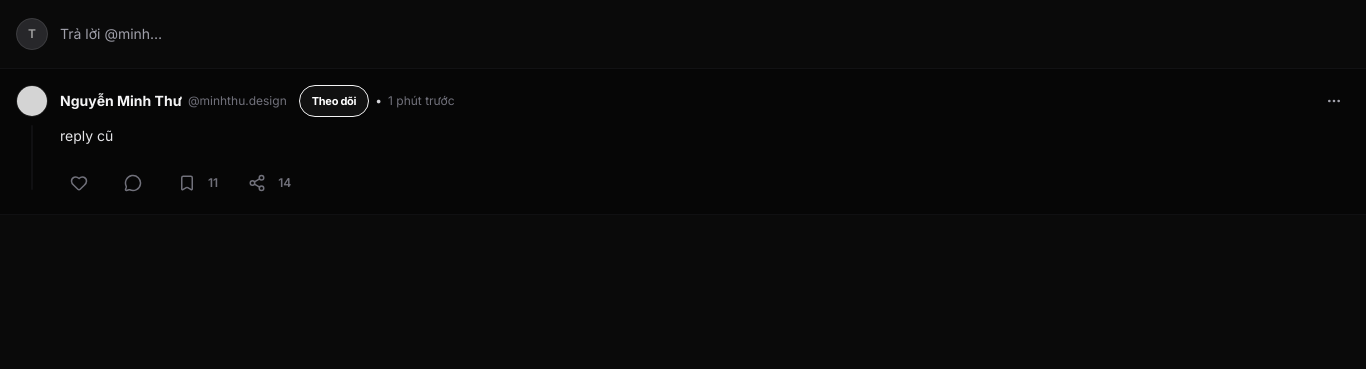
it: ReplyComposer › posts a reply to the top of the thread and collapses
Click the button "T Trả lời @minh…" at (32, 34), box [16, 12, 1350, 56]
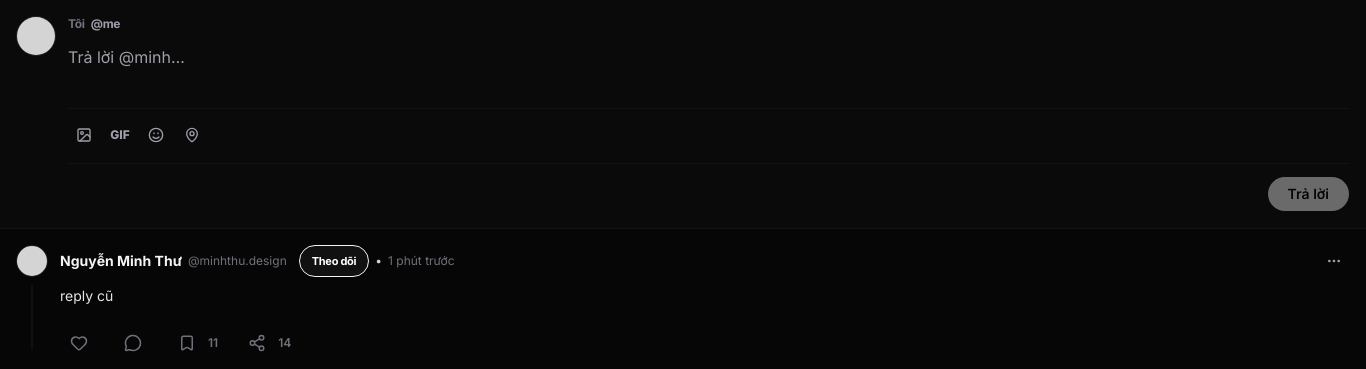
Type "xin chào" into the text box with placeholder "Trả lời @minh…" at (709, 70), box [68, 40, 1350, 100]
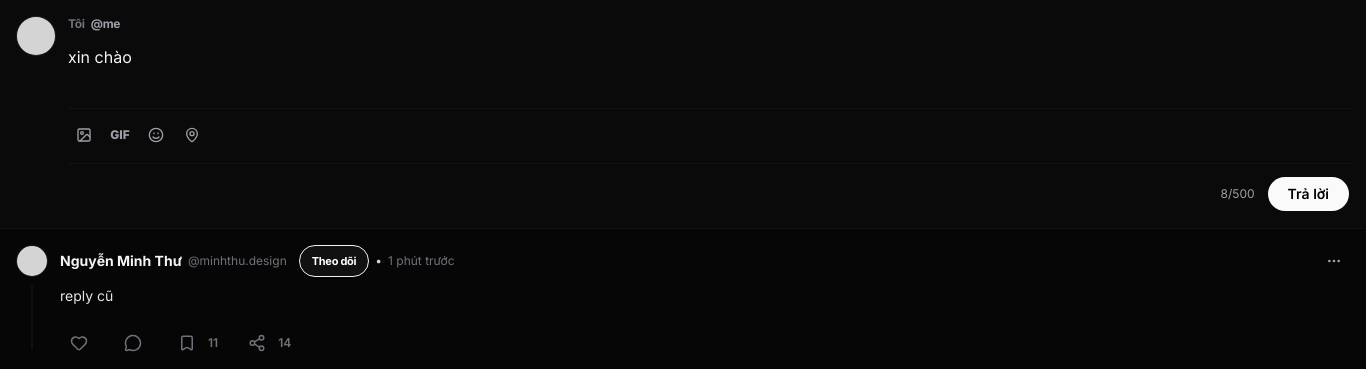
Click the button "Trả lời" at (1308, 194), box [1267, 176, 1350, 212]
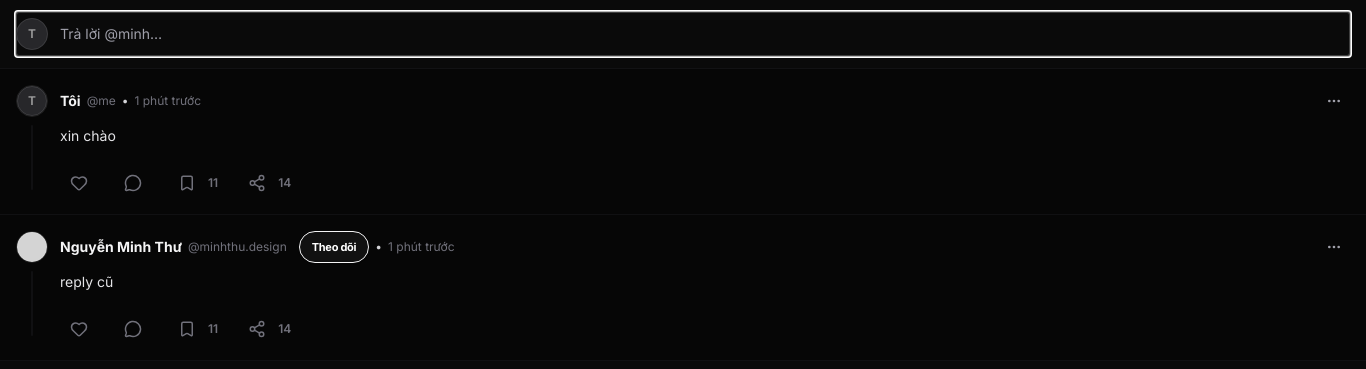
Result: the text "xin chào" is shown at [60, 127, 116, 144]
